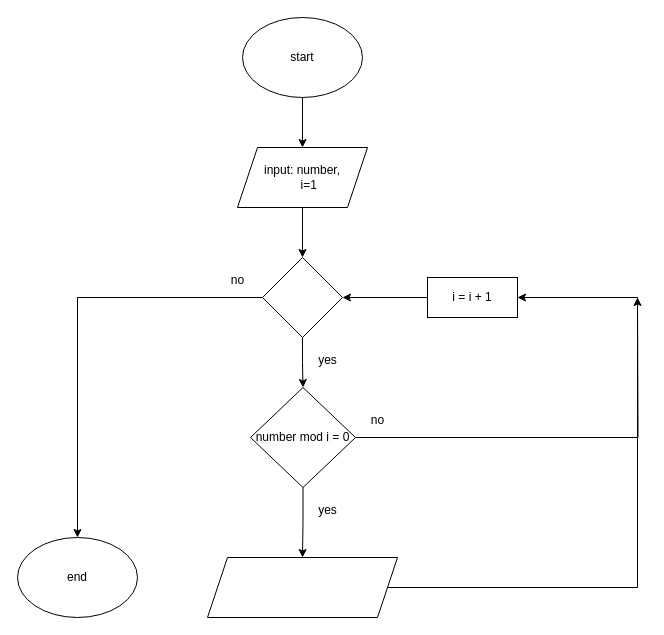
This 664x635 diagram has some shape labels left out. The shapes that lost their labels are listed below. From the top down, each one's centre as x and y in pixels, then its label:
At [302,297]: "i<=number".
At [302,587]: "output: i la uoc cua number".
